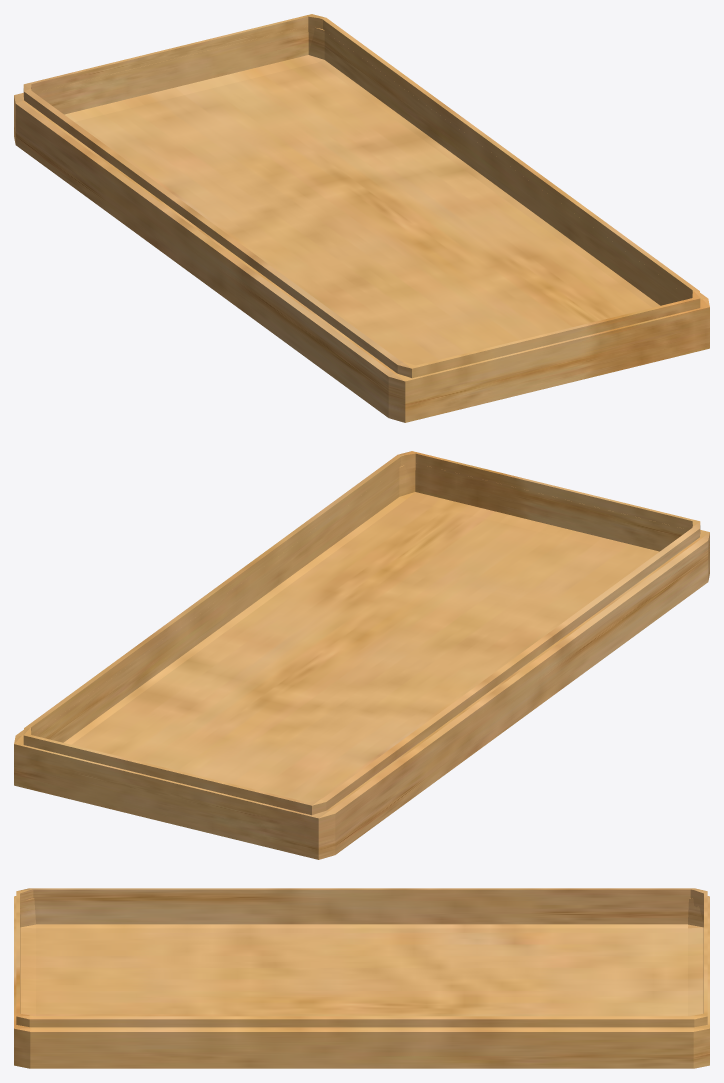
Rendered from bamboo_case.glb.
The picture shows the model from 3 angles, top to bottom: view 1: azimuth 30°, elevation 25°; view 2: azimuth 150°, elevation 25°; view 3: azimuth 270°, elevation 25°; orthographic projection. The views are drawn at different scales.
Visible parts, largest first — view 1: Cube, Cube.001; view 2: Cube, Cube.001; view 3: Cube, Cube.001.
Part boxes in pixels (bbox=[...]): Cube: bbox=[23, 14, 700, 378]; Cube.001: bbox=[14, 26, 709, 422]; Cube: bbox=[23, 451, 700, 815]; Cube.001: bbox=[14, 463, 709, 859]; Cube: bbox=[16, 888, 707, 1027]; Cube.001: bbox=[14, 896, 709, 1068].
Size of the model in its own units: 1.14 by 0.1818 by 2.41.
Materials: 2 (2 with a texture image).
